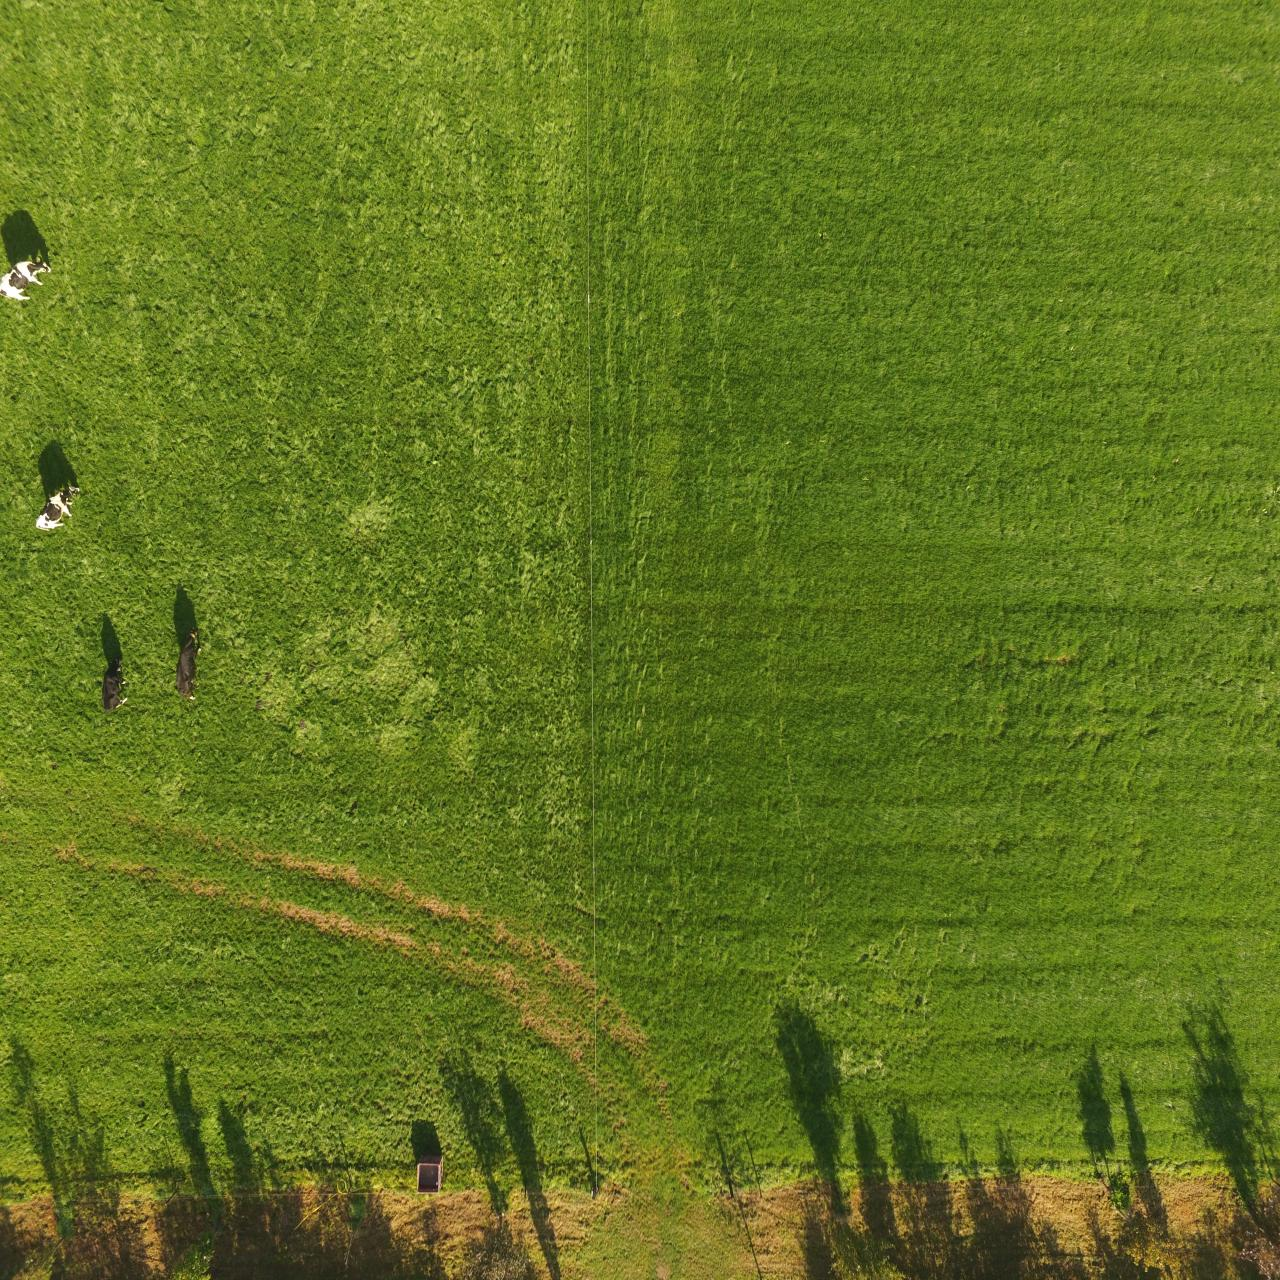cow: (0, 244, 56, 316), (170, 619, 211, 709), (25, 477, 88, 535), (96, 659, 136, 721)
